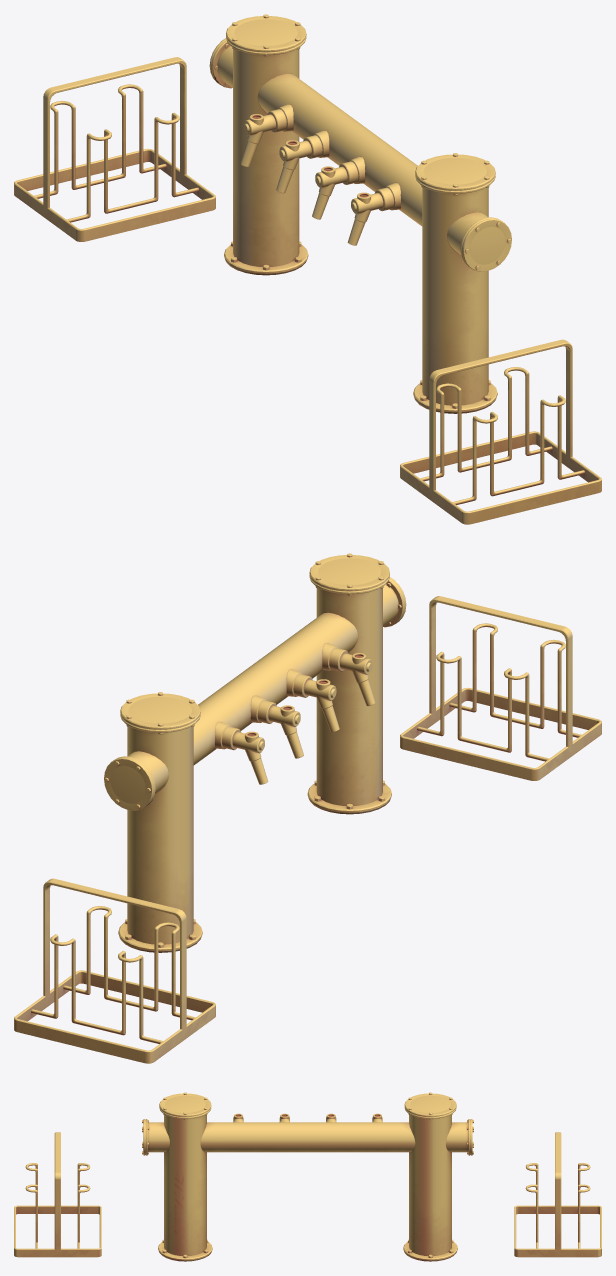
Rendered from CommunityRoomB_DrinkDispenser.fbx.
3 renders of one model, top to bottom at view 1: azimuth 30°, elevation 25°; view 2: azimuth 150°, elevation 25°; view 3: azimuth 270°, elevation 25°, orthographic. The views are drawn at different scales.
Parts seen in each view (by area): view 1: CommunityRoomB_DrinkDispenser; view 2: CommunityRoomB_DrinkDispenser; view 3: CommunityRoomB_DrinkDispenser.
Part boxes in pixels (box(x1,y1,x2,y2)): CommunityRoomB_DrinkDispenser: box(14, 14, 601, 524); CommunityRoomB_DrinkDispenser: box(14, 553, 601, 1063); CommunityRoomB_DrinkDispenser: box(14, 1092, 601, 1261).
Size of the model in its own units: 31.54 by 43.56 by 156.
